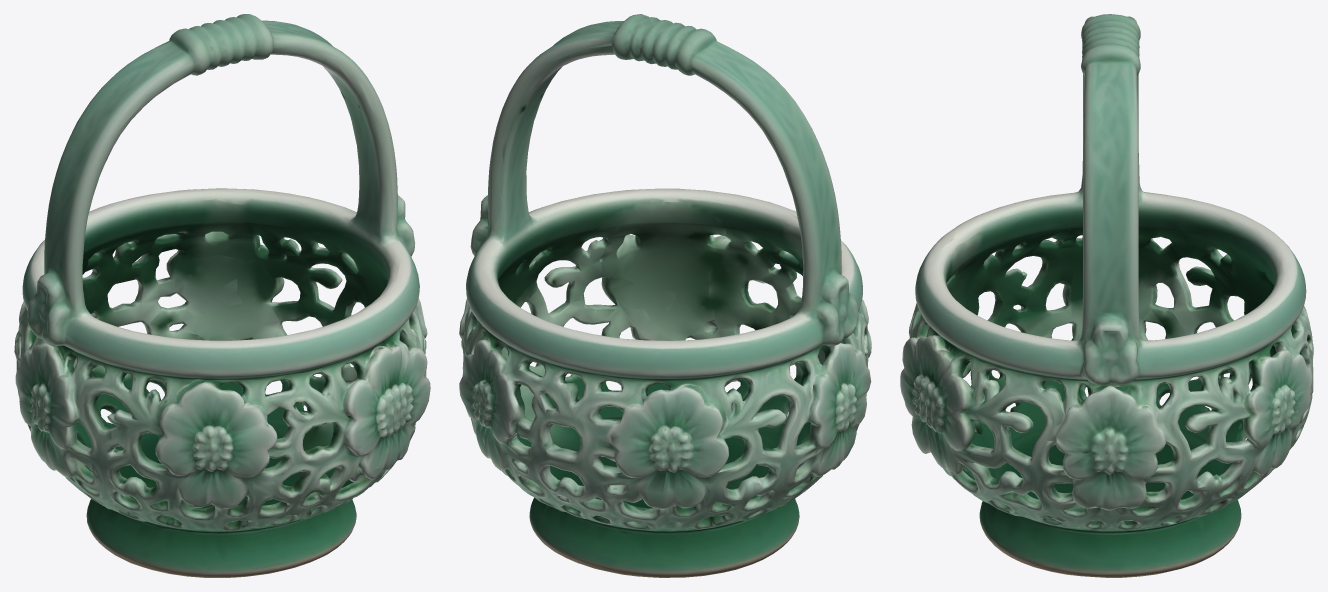
Rendered from songhua.glb.
The picture shows the model from 3 angles, left to right: view 1: azimuth 30°, elevation 25°; view 2: azimuth 150°, elevation 25°; view 3: azimuth 270°, elevation 25°; orthographic projection.
Parts seen in each view (by area): view 1: node_0; view 2: node_0; view 3: node_0.
Part boxes in pixels (x1,y1,x2,y2): node_0: (14,14,430,577); node_0: (459,14,871,577); node_0: (900,14,1313,577).
Bounding box in the file's own units: 0.8373 × 1.08 × 0.8211.
1 material, 1 textured.
